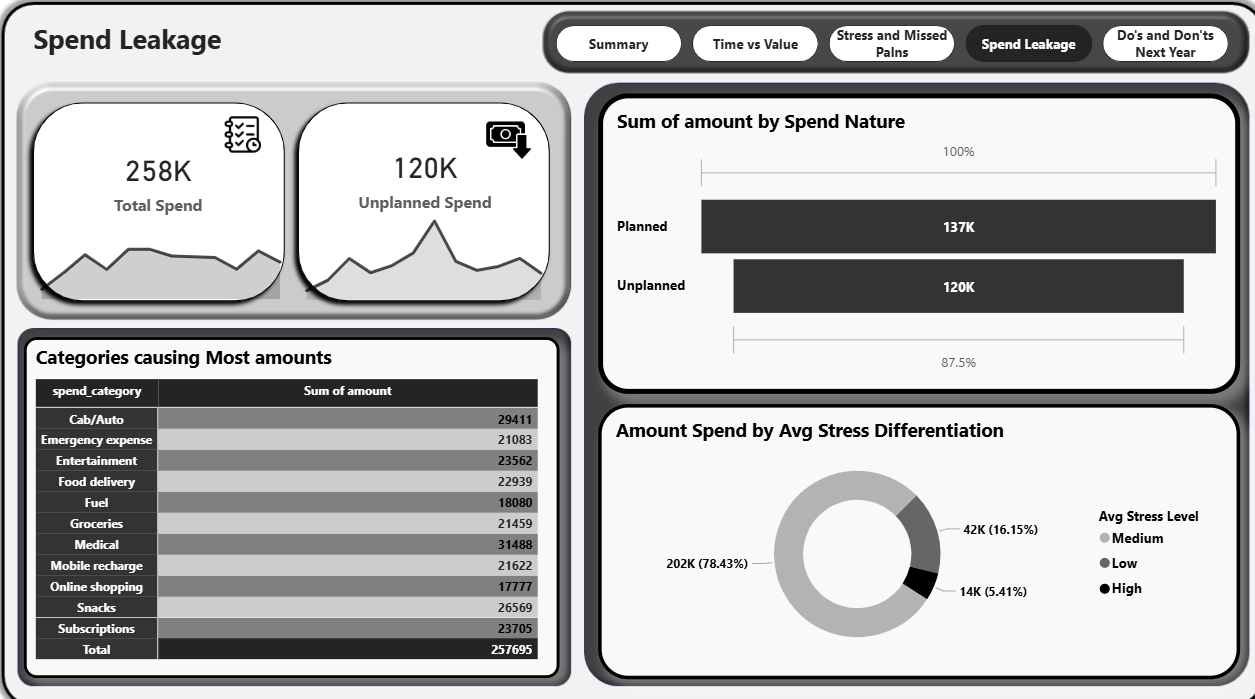

Layout of this report page (visuals, bound fields, positions):
{"tool":"powerbi","page":{"name":"Spend Leakage","canvas":[1280,720],"ordinal":3},"visuals":[{"type":"funnel","fields":{"Category":["public spending_logs.Spend Nature"],"Y":["Sum(public spending_logs.amount)"]},"box":[605.5,95.3,643.3,301.3],"z":0},{"type":"donutChart","title":"Amount Spend by Avg Stress Differentiation","fields":{"Category":["Daily Stress.Avg Stress Level"],"Y":["Sum(public spending_logs.amount)"]},"box":[605.5,406.5,643.3,276.1],"z":1000},{"type":"pivotTable","title":"Categories causing Most amounts","fields":{"Rows":["public spending_logs.spend_category"],"Values":["Sum(public spending_logs.amount)"]},"box":[29.4,340.6,536.8,342],"z":2000},{"type":"shape","box":[29.4,95.3,270.5,217.2],"z":3000},{"type":"card","fields":{"Values":["public spending_logs.Total Spend"]},"box":[79.9,143,169.6,79.9],"z":4000},{"type":"lineChart","fields":{"Category":["public spending_logs.month"],"Y":["Sum(public spending_logs.amount)"]},"box":[33.6,222.8,266.3,84.1],"z":5000},{"type":"shape","box":[295.7,95.3,270.5,217.2],"z":6000},{"type":"card","fields":{"Values":["public spending_logs.Unplanned Spend"]},"box":[315.4,137.4,232.7,85.5],"z":7000},{"type":"areaChart","fields":{"Category":["public spending_logs.month"],"Y":["public spending_logs.Unplanned Spend"]},"box":[299.9,183.6,262.1,123.3],"z":8000},{"type":"image","box":[217.2,119.1,64.5,36.4],"z":9000},{"type":"image","box":[484.9,119.1,63.1,47.7],"z":10000},{"type":"pageNavigator","box":[563.4,26.6,677,37.8],"z":11000},{"type":"textbox","box":[33.6,16.8,346.2,61.7],"z":12000}]}

Visuals, with their boxes in screenshot pixels (x1, y1, x2, y2), scaled from the page's 1280x720 canvas onto the 1255x699 screenshot:
funnel - public spending_logs.Spend Nature x Sum(public spending_logs.amount): pyautogui.locateOnScreen(594, 93, 1224, 385)
"Amount Spend by Avg Stress Differentiation" donutChart: pyautogui.locateOnScreen(594, 395, 1224, 663)
"Categories causing Most amounts" pivotTable: pyautogui.locateOnScreen(29, 331, 555, 663)
shape: pyautogui.locateOnScreen(29, 93, 294, 303)
card - public spending_logs.Total Spend: pyautogui.locateOnScreen(78, 139, 245, 216)
lineChart - public spending_logs.month x Sum(public spending_logs.amount): pyautogui.locateOnScreen(33, 216, 294, 298)
shape: pyautogui.locateOnScreen(290, 93, 555, 303)
card - public spending_logs.Unplanned Spend: pyautogui.locateOnScreen(309, 133, 537, 216)
areaChart - public spending_logs.month x public spending_logs.Unplanned Spend: pyautogui.locateOnScreen(294, 178, 551, 298)
image: pyautogui.locateOnScreen(213, 116, 276, 151)
image: pyautogui.locateOnScreen(475, 116, 537, 162)
pageNavigator: pyautogui.locateOnScreen(552, 26, 1216, 63)
textbox: pyautogui.locateOnScreen(33, 16, 372, 76)
